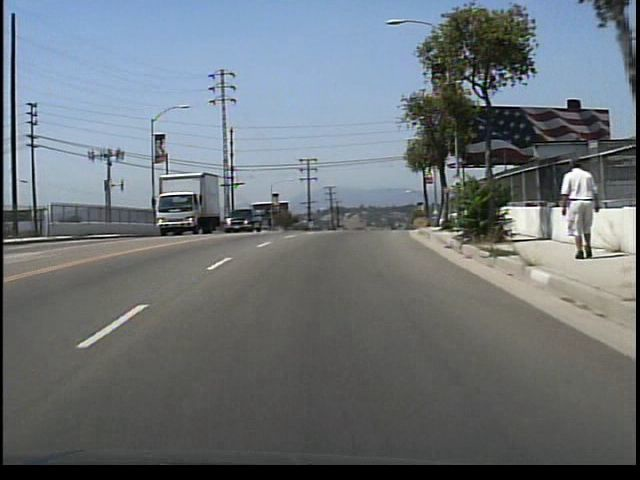person: (556, 154, 598, 262)
